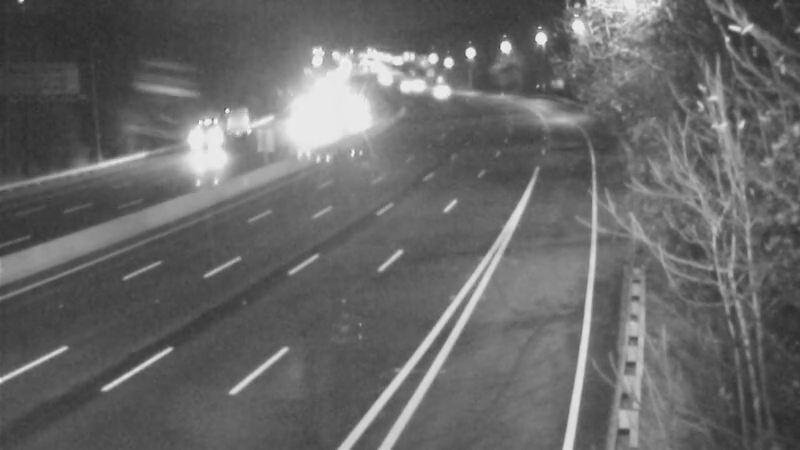vehicle: (416, 67, 466, 117), (182, 116, 232, 166)
